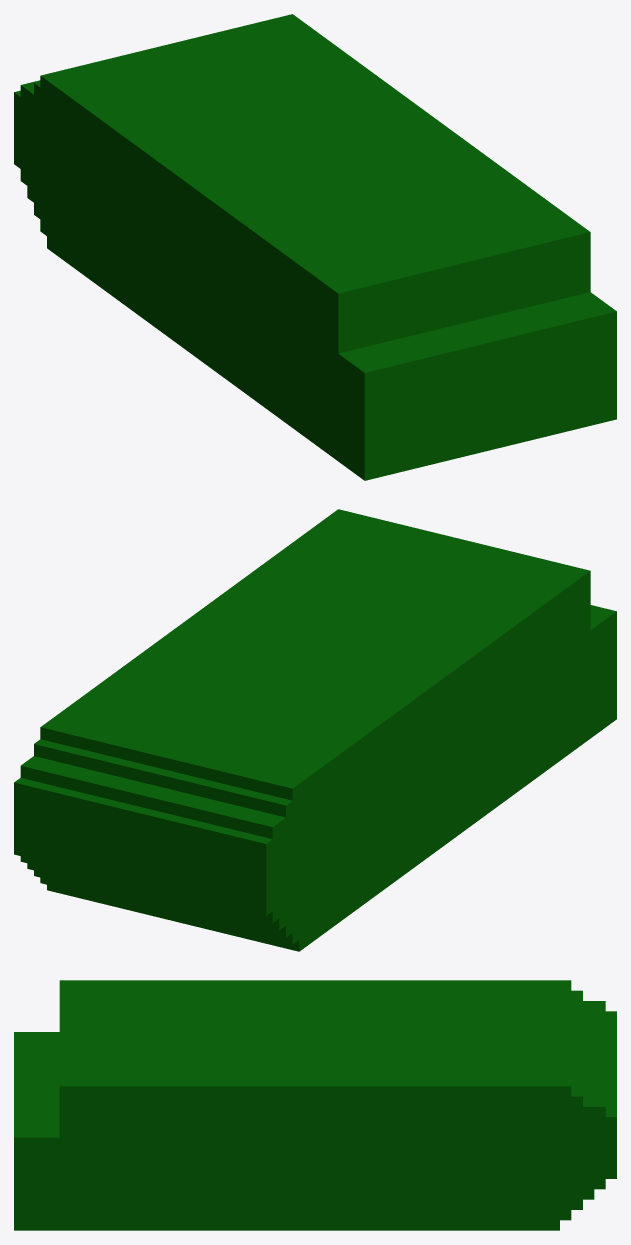
The model's file is MainTankBody.fbx.
3 views of the same model, one above another, from view 1: azimuth 30°, elevation 25°; view 2: azimuth 150°, elevation 25°; view 3: azimuth 270°, elevation 25° (orthographic). The views are drawn at different scales.
Visible parts, largest first — view 1: polySurface20; view 2: polySurface20; view 3: polySurface20.
Part boxes in pixels (left/top/right/bottom): polySurface20: left=14, top=14, right=616, bottom=480; polySurface20: left=14, top=509, right=616, bottom=951; polySurface20: left=14, top=980, right=616, bottom=1230.
Size of the model in its own units: 13.2 by 8.4 by 31.8.
